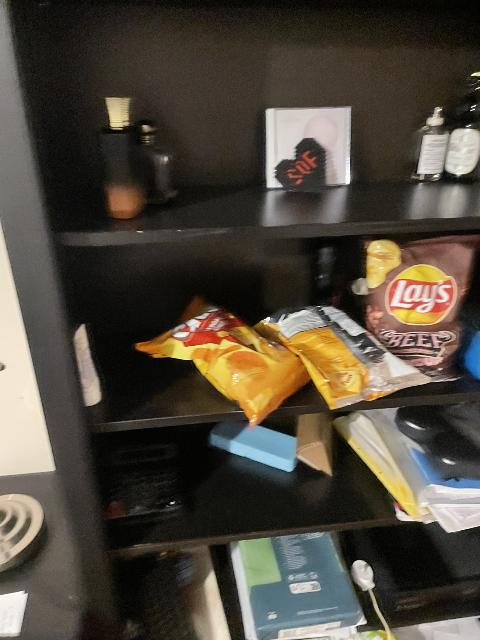Chio Cascaval 125g: (135, 297, 310, 424)
Chio Hula Hoops Cheese 70g: (269, 303, 424, 407)
Lays Beef Grilled Ribs 125g: (356, 239, 480, 372)
